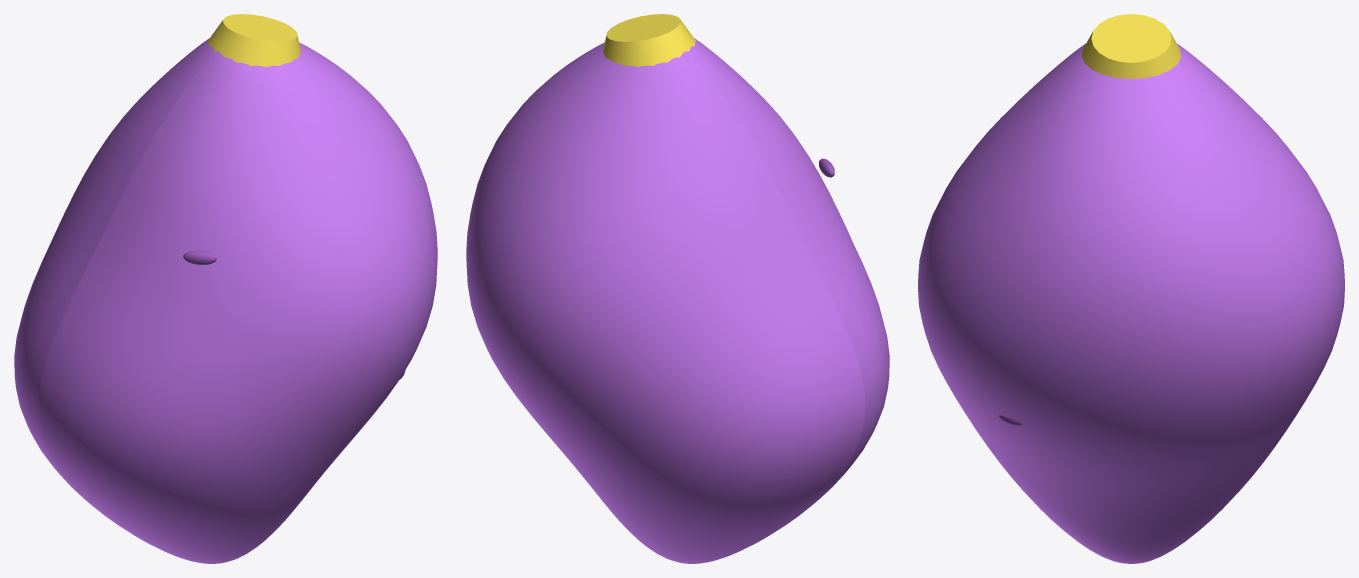
Rendered from purple_sweet_potato.glb.
3 views of the same model, side by side, from view 1: azimuth 30°, elevation 25°; view 2: azimuth 150°, elevation 25°; view 3: azimuth 270°, elevation 25° (orthographic). The views are drawn at different scales.
Parts seen in each view (by area): view 1: SweetPotato_Body, Chibi_PurpleSweetPotato; view 2: SweetPotato_Body, Chibi_PurpleSweetPotato; view 3: SweetPotato_Body, Chibi_PurpleSweetPotato.
Boxes of the visible parts, x1,y1,x2,y2 form: SweetPotato_Body: [14, 38, 437, 563]; Chibi_PurpleSweetPotato: [183, 14, 405, 379]; SweetPotato_Body: [466, 38, 889, 563]; Chibi_PurpleSweetPotato: [603, 14, 834, 177]; SweetPotato_Body: [918, 43, 1344, 563]; Chibi_PurpleSweetPotato: [998, 14, 1181, 425].
Bounding box in the file's own units: 1.57 × 2.13 × 1.49.
